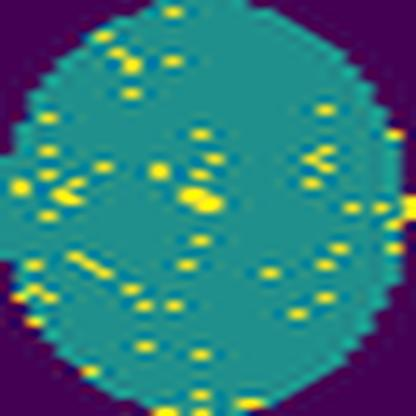Center: (172, 180, 230, 218)
